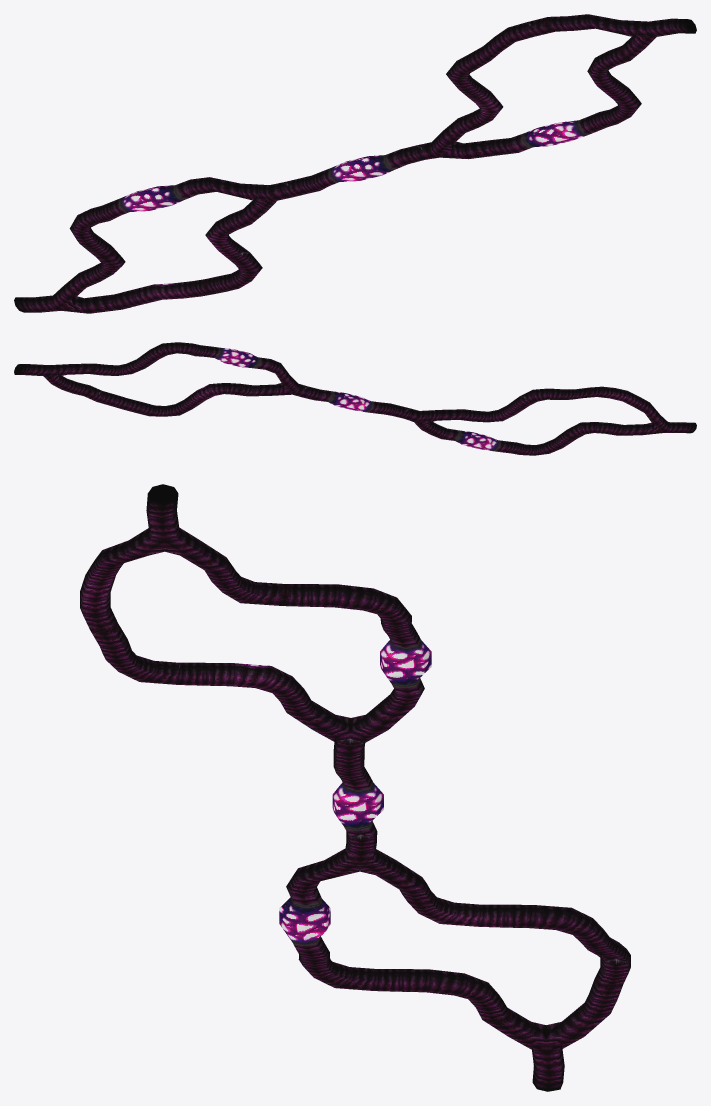
File: AlienCerebral.glb
3 views of the same model, one above another, from view 1: azimuth 30°, elevation 25°; view 2: azimuth 150°, elevation 25°; view 3: azimuth 270°, elevation 25° (orthographic). The views are drawn at different scales.
Visible parts, largest first — view 1: AlienCerebral_1, AlienCerebral_6, AlienCerebral_4, AlienCerebral_2, AlienCerebral_3, AlienCerebral_5; view 2: AlienCerebral_1, AlienCerebral_6, AlienCerebral_2, AlienCerebral_4, AlienCerebral_3, AlienCerebral_5; view 3: AlienCerebral_1, AlienCerebral_6, AlienCerebral_4, AlienCerebral_2, AlienCerebral_3, AlienCerebral_5.
Boxes of the visible parts, x1,y1,x2,y2 form: AlienCerebral_1: [14, 14, 693, 313]; AlienCerebral_6: [89, 16, 645, 296]; AlienCerebral_4: [133, 122, 571, 210]; AlienCerebral_2: [111, 117, 596, 215]; AlienCerebral_3: [120, 120, 586, 211]; AlienCerebral_5: [156, 128, 549, 205]; AlienCerebral_1: [15, 342, 696, 455]; AlienCerebral_6: [68, 363, 603, 443]; AlienCerebral_2: [206, 346, 507, 452]; AlienCerebral_4: [224, 349, 489, 448]; AlienCerebral_3: [215, 347, 498, 450]; AlienCerebral_5: [240, 353, 473, 444]; AlienCerebral_1: [80, 493, 630, 1091]; AlienCerebral_6: [83, 582, 627, 1037]; AlienCerebral_4: [279, 652, 431, 932]; AlienCerebral_2: [287, 632, 424, 952]; AlienCerebral_3: [280, 635, 431, 944]; AlienCerebral_5: [279, 674, 423, 917].
Bounding box in the file's own units: 867 × 30.5 × 357.
9 materials, 9 textured.
